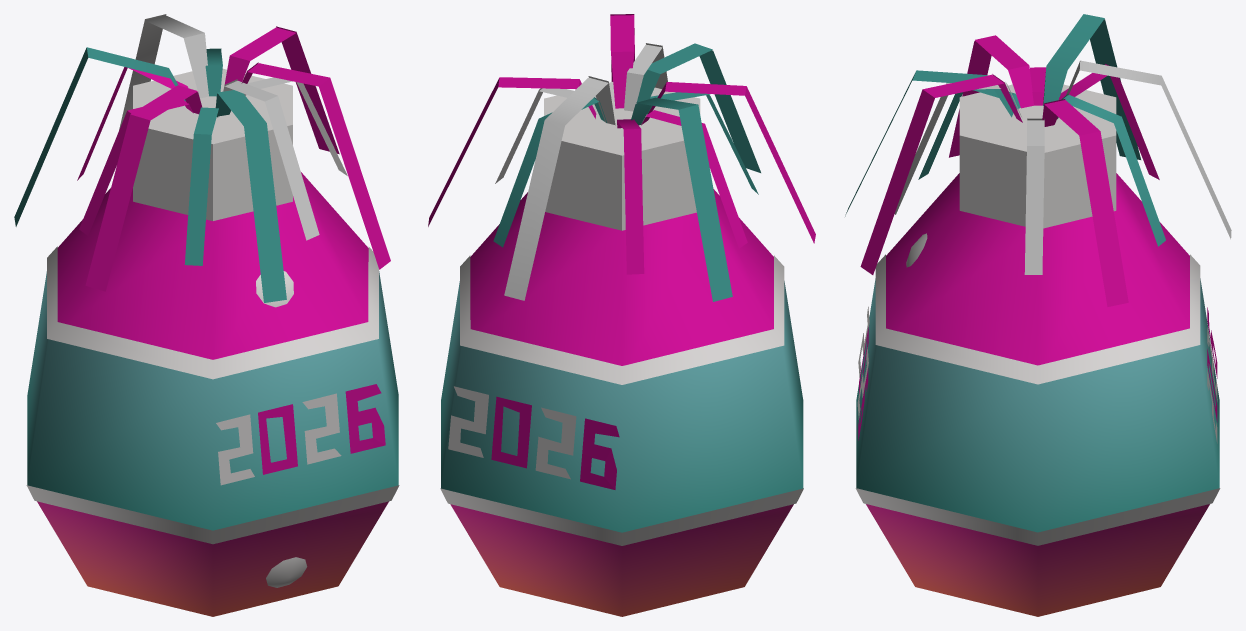
Rendered from grenade_NewYear2026.glb.
3 renders of one model, left to right at view 1: azimuth 30°, elevation 25°; view 2: azimuth 150°, elevation 25°; view 3: azimuth 270°, elevation 25°, orthographic. The views are drawn at different scales.
Visible parts, largest first — view 1: grenade_NewYear2026; view 2: grenade_NewYear2026; view 3: grenade_NewYear2026.
Boxes of the visible parts, left/top/right/bottom form: grenade_NewYear2026: left=14, top=14, right=399, bottom=616; grenade_NewYear2026: left=428, top=14, right=815, bottom=616; grenade_NewYear2026: left=845, top=14, right=1231, bottom=616.
Size of the model in its own units: 0.1218 by 0.1716 by 0.1119.
